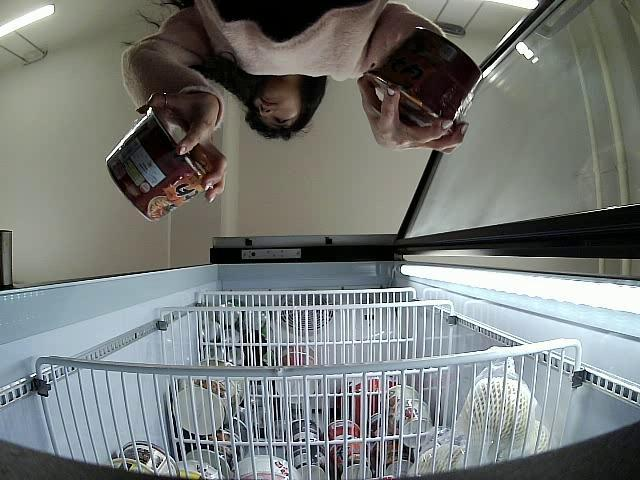05_nuguri_L: (361, 23, 485, 138), (106, 105, 208, 220)
